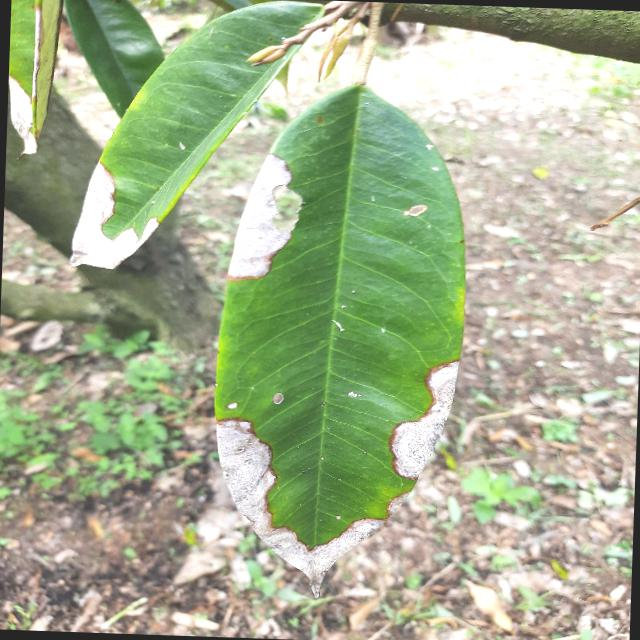Leaf Blight: (204, 73, 478, 594), (62, 0, 330, 294)
